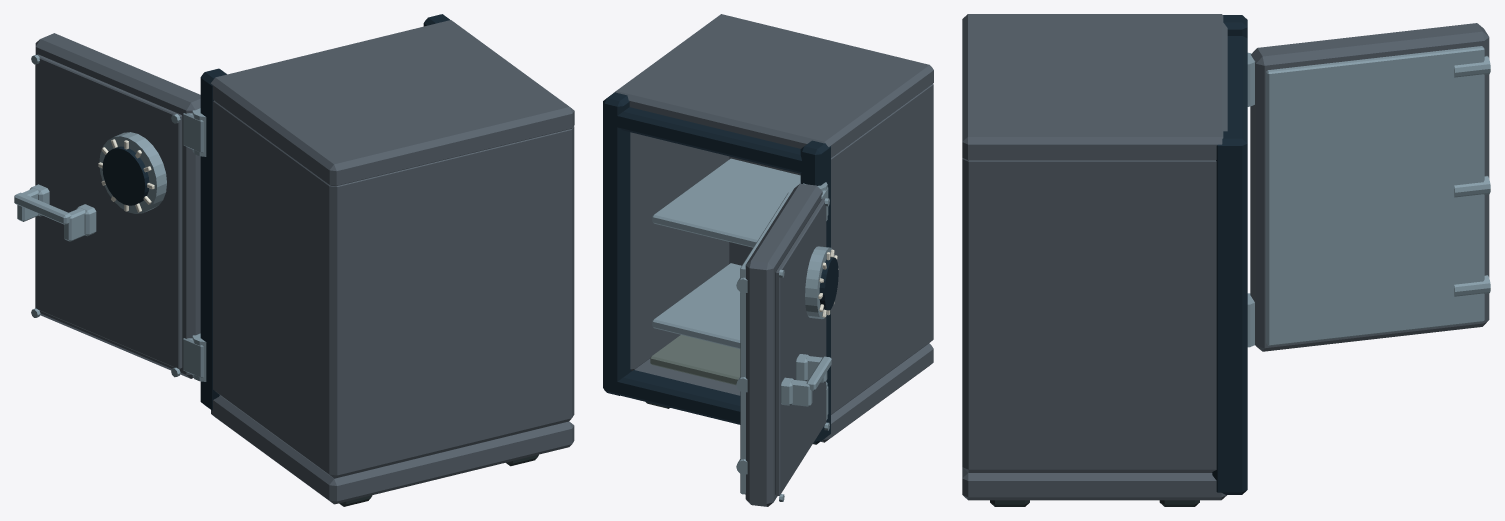
File: office_armored_safe_opened.glb
The picture shows the model from 3 angles, left to right: view 1: azimuth 30°, elevation 25°; view 2: azimuth 150°, elevation 25°; view 3: azimuth 270°, elevation 25°; orthographic projection. The views are drawn at different scales.
Visible parts, largest first — view 1: body_back_wall, body_left_wall, body_roof, moving_front_inset, body_floor, moving_door, body_right_wall, front_frame, moving_combination_dial, moving_combination_ring, moving_hinge_leaf (×2), moving_lock_handle_bar; view 2: body_left_wall, body_roof, front_frame (×4), body_right_wall, interior_shelf (×2), moving_door, moving_front_inset, body_floor, interior_lining, body_back_wall, moving_inner_door_plate, moving_combination_ring (+3 smaller); view 3: body_right_wall, moving_inner_door_plate, body_roof, front_frame (×2), moving_door, body_floor, body_back_wall.
Boxes of the visible parts, x1,y1,x2,y2 form: body_back_wall: [320, 129, 571, 478]; body_left_wall: [213, 100, 352, 478]; body_roof: [211, 20, 574, 186]; moving_front_inset: [35, 54, 182, 369]; body_floor: [211, 395, 574, 504]; moving_door: [35, 33, 200, 378]; body_right_wall: [555, 126, 574, 423]; front_frame: [200, 68, 226, 410]; moving_combination_dial: [102, 146, 149, 205]; moving_combination_ring: [99, 132, 166, 213]; moving_hinge_leaf (×2): [183, 113, 203, 377]; moving_lock_handle_bar: [14, 192, 71, 224]; body_left_wall: [831, 84, 933, 414]; body_roof: [615, 14, 933, 157]; front_frame (×4): [603, 92, 830, 443]; body_right_wall: [630, 132, 729, 370]; interior_shelf (×2): [652, 158, 800, 348]; moving_door: [745, 183, 822, 506]; moving_front_inset: [775, 198, 826, 495]; body_floor: [634, 343, 933, 442]; interior_lining: [650, 335, 740, 385]; body_back_wall: [729, 85, 933, 346]; moving_inner_door_plate: [740, 192, 790, 494]; moving_combination_ring: [805, 246, 834, 319]; body_right_wall: [962, 158, 1216, 472]; moving_inner_door_plate: [1266, 46, 1484, 345]; body_roof: [962, 14, 1227, 160]; front_frame (×2): [1212, 36, 1247, 494]; moving_door: [1250, 23, 1489, 351]; body_floor: [962, 467, 1226, 500]; body_back_wall: [968, 160, 987, 472].
Size of the model in its own units: 1.24 by 1.25 by 1.57.
